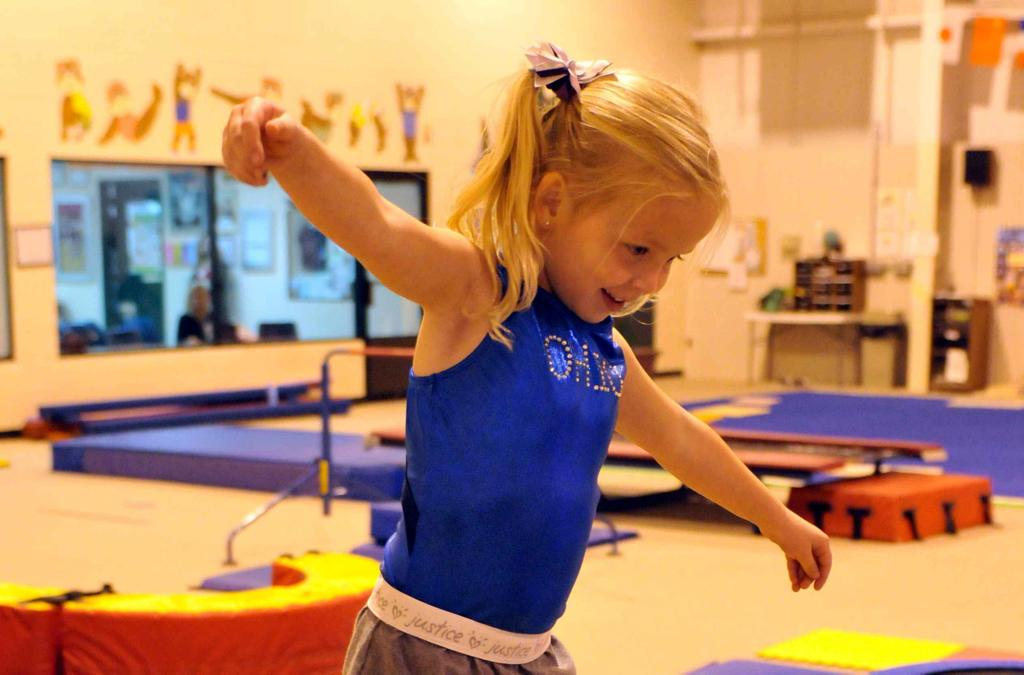face: (564, 158, 718, 314)
